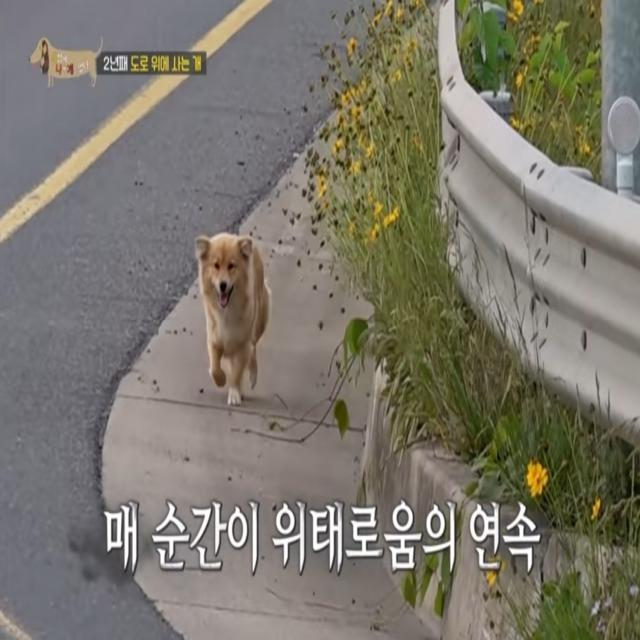dog: (195, 208, 269, 414)
